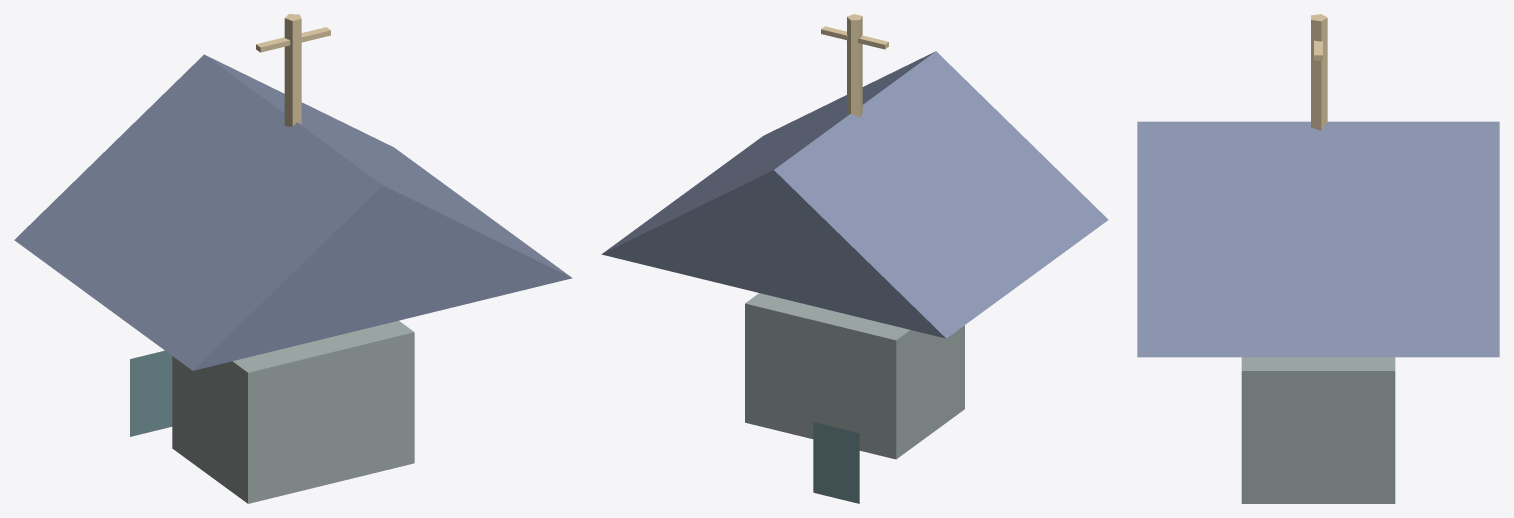
Rendered from moonhill-almanac-pavilion-01.glb.
3 views of the same model, side by side, from view 1: azimuth 30°, elevation 25°; view 2: azimuth 150°, elevation 25°; view 3: azimuth 270°, elevation 25° (orthographic). The views are drawn at different scales.
Parts seen in each view (by area): view 1: PavilionRoof, PavilionBody, OpenDoor, VanePost, WeatherVane; view 2: PavilionRoof, PavilionBody, OpenDoor, VanePost; view 3: PavilionRoof, PavilionBody, VanePost.
Part boxes in pixels (box(x1,y1,x2,y2)): PavilionRoof: box(14, 54, 572, 370); PavilionBody: box(172, 320, 414, 503); OpenDoor: box(130, 350, 172, 436); VanePost: box(284, 14, 301, 126); WeatherVane: box(256, 27, 330, 52); PavilionRoof: box(601, 51, 1108, 338); PavilionBody: box(745, 293, 964, 459); OpenDoor: box(813, 422, 859, 503); VanePost: box(847, 14, 862, 117); PavilionRoof: box(1137, 121, 1499, 357); PavilionBody: box(1241, 357, 1395, 503); VanePost: box(1311, 14, 1327, 130).
Bounding box in the file's own units: 1.94 × 2.23 × 1.58.
